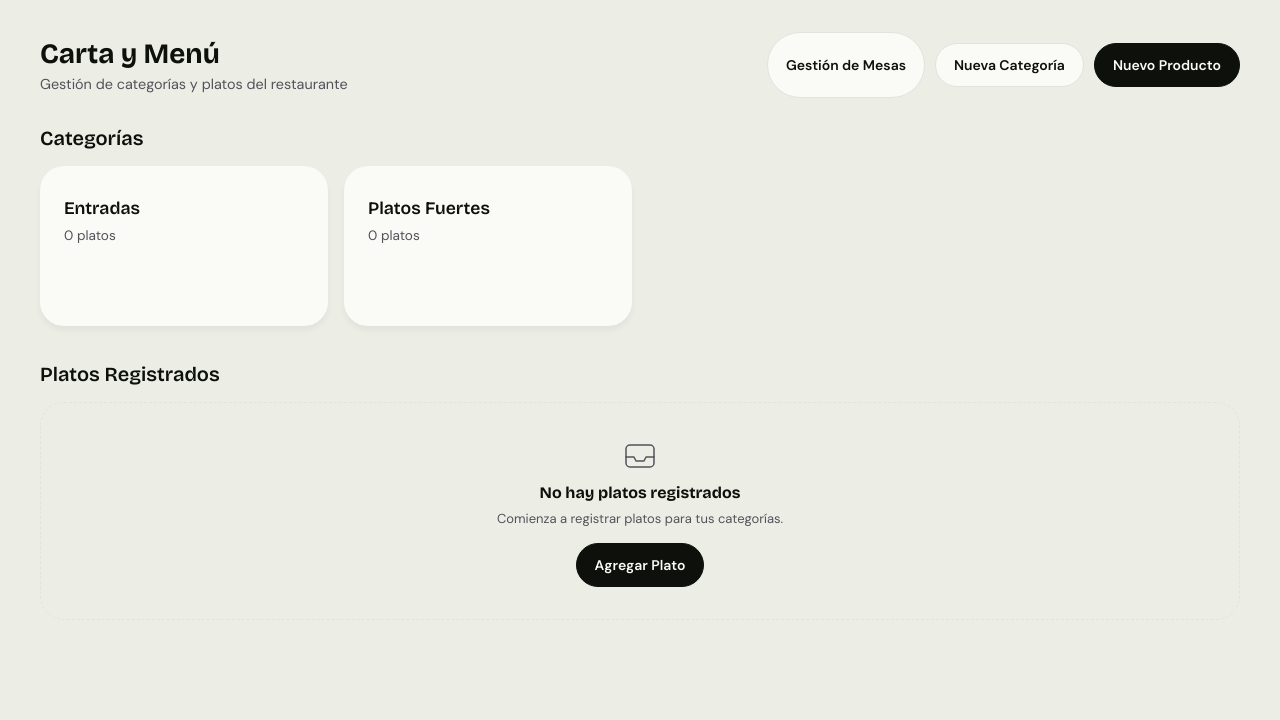
Scenario: E.1 Admin Dashboard — Comportamiento Bento Box (Tests 31-36) › 33. Crear producto: el formulario dispara createProduct con el categoryId seleccionado y el grid se refresca
What coordinates should you click on to do the following:
click the button "Nuevo Producto"
I would click on:
 (1167, 65)
Its box is [1094, 43, 1240, 87].
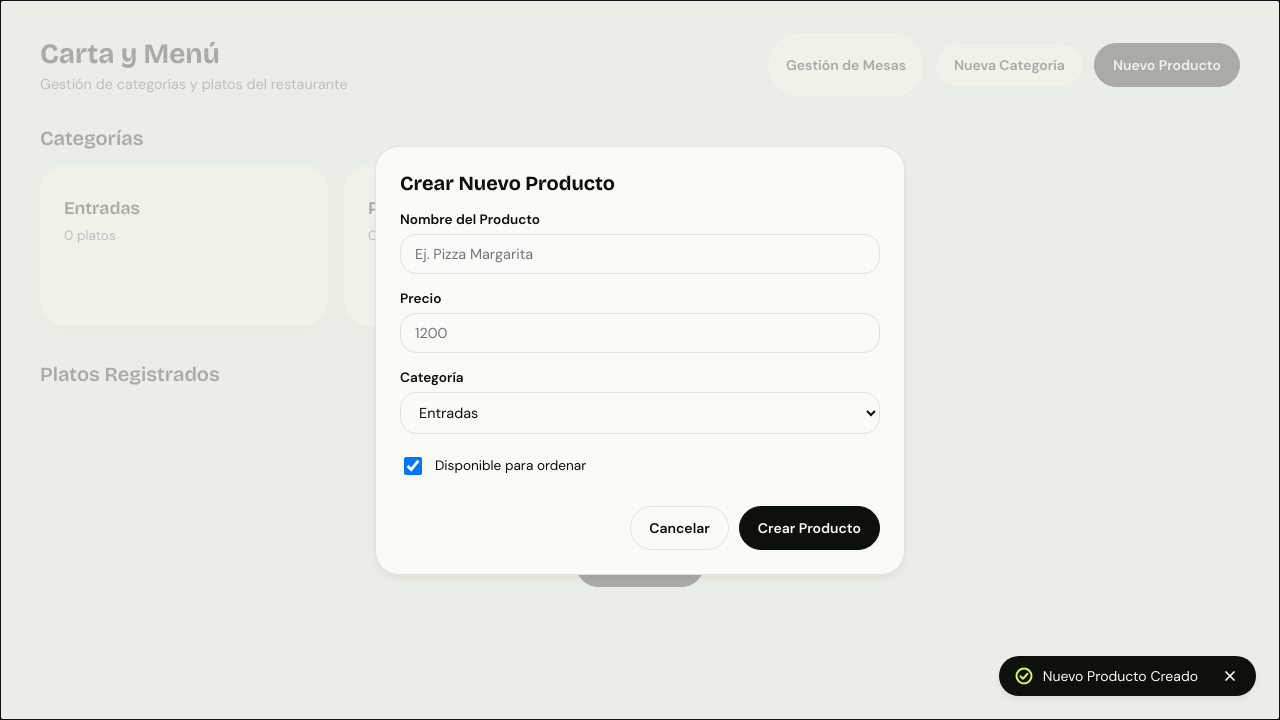
Expected: the text "Nuevo Producto Creado" is shown, [1043, 667, 1198, 685]
